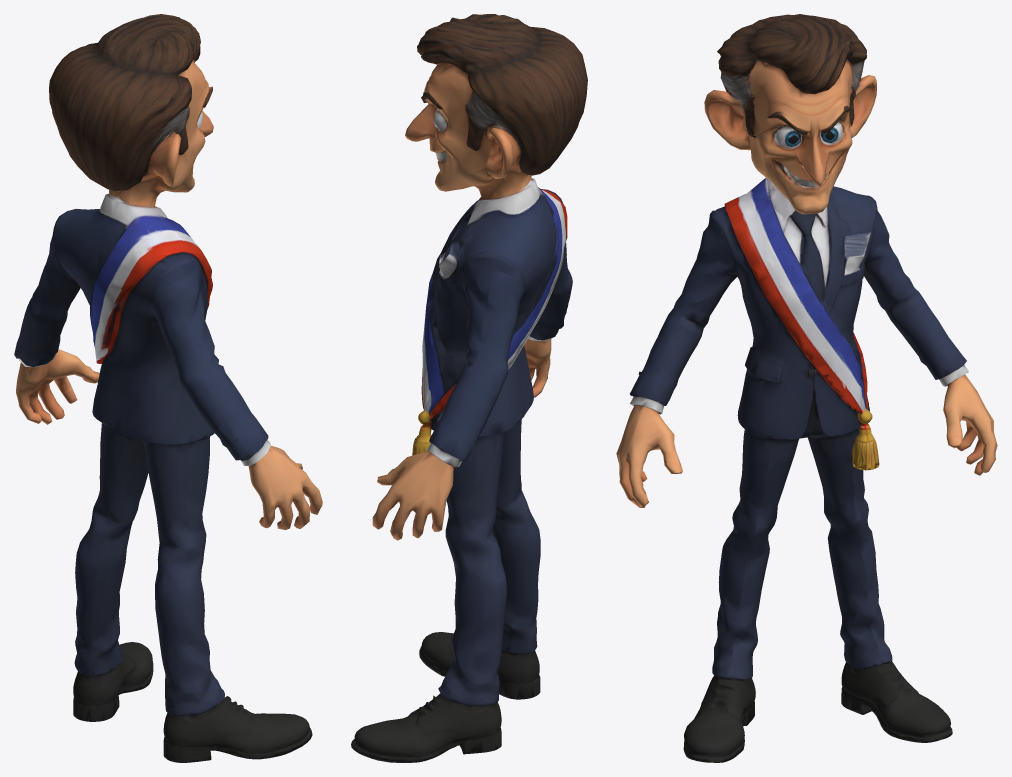
The model's file is micron.glb.
The picture shows the model from 3 angles, left to right: view 1: azimuth 30°, elevation 25°; view 2: azimuth 150°, elevation 25°; view 3: azimuth 270°, elevation 25°; orthographic projection.
Parts seen in each view (by area): view 1: tripo_node_af4a3817-ad15-4c8f-a583-d3d9ea7e6687; view 2: tripo_node_af4a3817-ad15-4c8f-a583-d3d9ea7e6687; view 3: tripo_node_af4a3817-ad15-4c8f-a583-d3d9ea7e6687.
Boxes of the visible parts, x1,y1,x2,y2 form: tripo_node_af4a3817-ad15-4c8f-a583-d3d9ea7e6687: [14, 14, 322, 762]; tripo_node_af4a3817-ad15-4c8f-a583-d3d9ea7e6687: [351, 14, 587, 762]; tripo_node_af4a3817-ad15-4c8f-a583-d3d9ea7e6687: [616, 14, 997, 762].
Bounding box in the file's own units: 0.3019 × 0.9997 × 0.503.
Materials: 1 (1 with a texture image).
